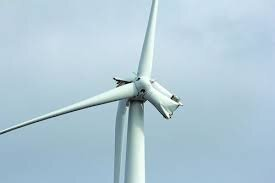faulty: (89, 66, 186, 165)
